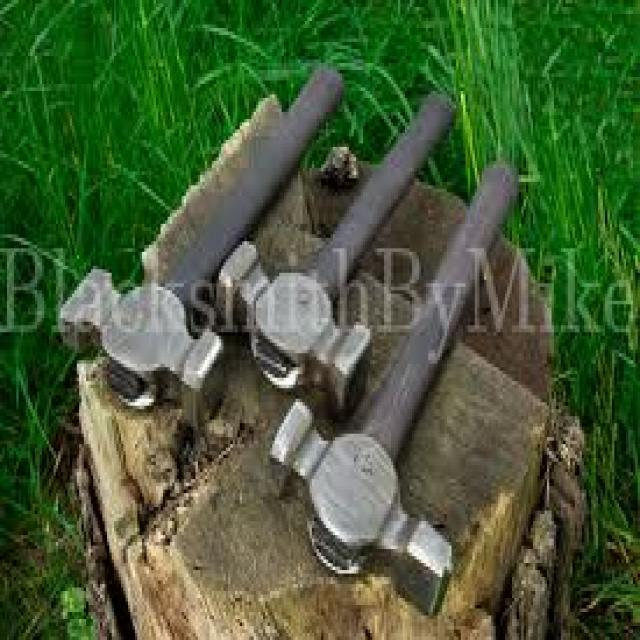hammer: (263, 156, 526, 624), (52, 58, 350, 436), (212, 88, 458, 426)
